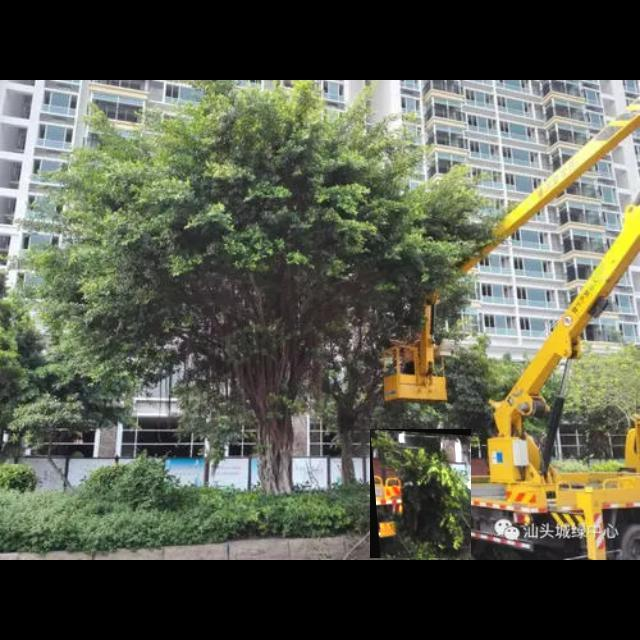fallen_tree: (370, 429, 472, 559)
